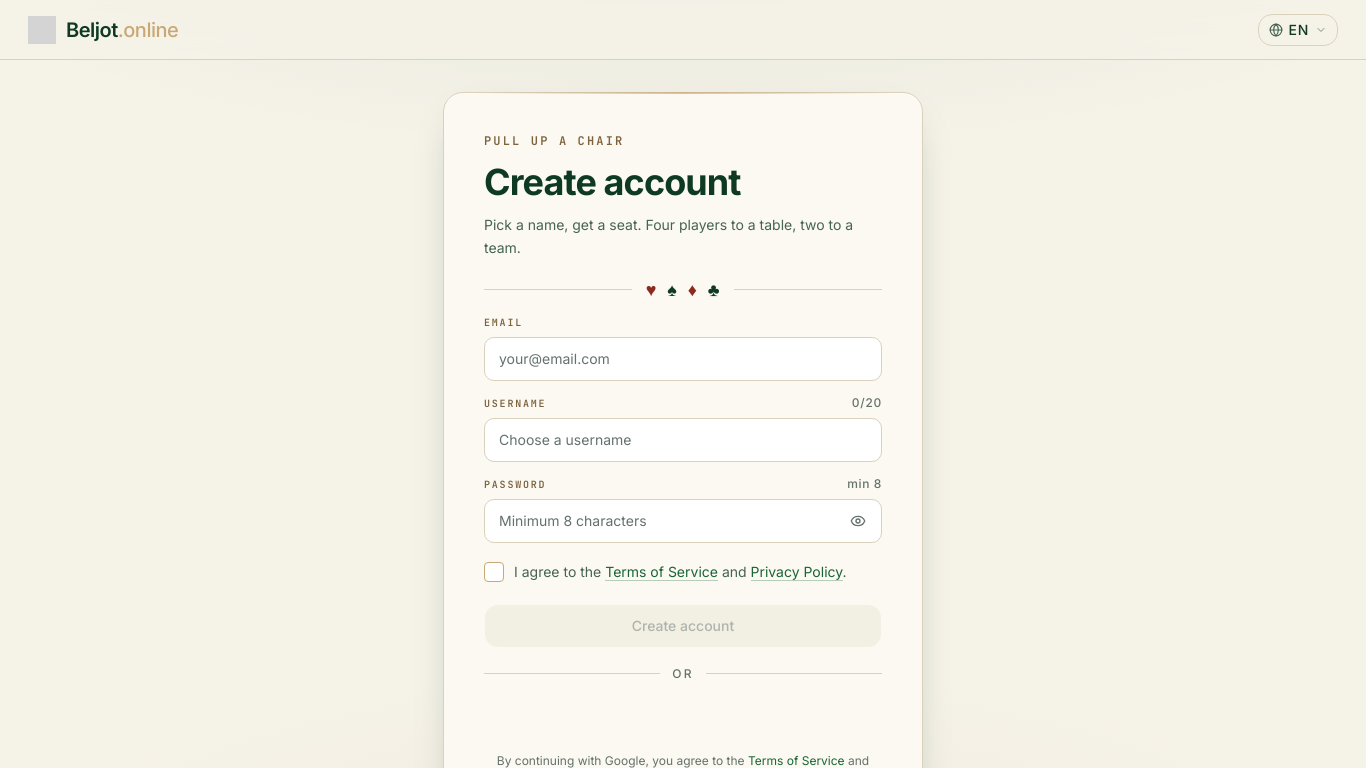
Test: RegisterPage › displays inline error for EMAIL_TAKEN server response
Type "taken@example.com" into the field with test id "email-input" at (683, 359), box [484,337,882,381]
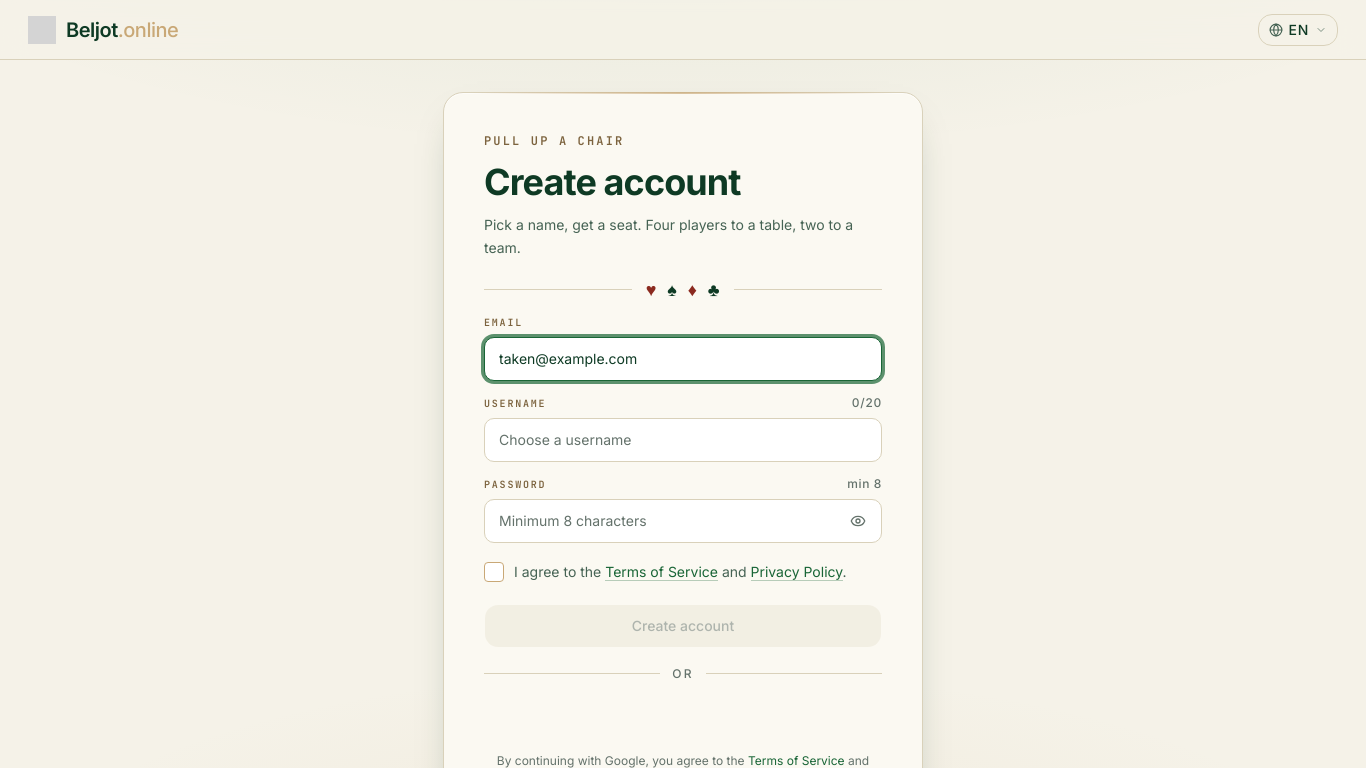
Type "testuser" into the field with test id "username-input" at (683, 440), box [484,418,882,462]
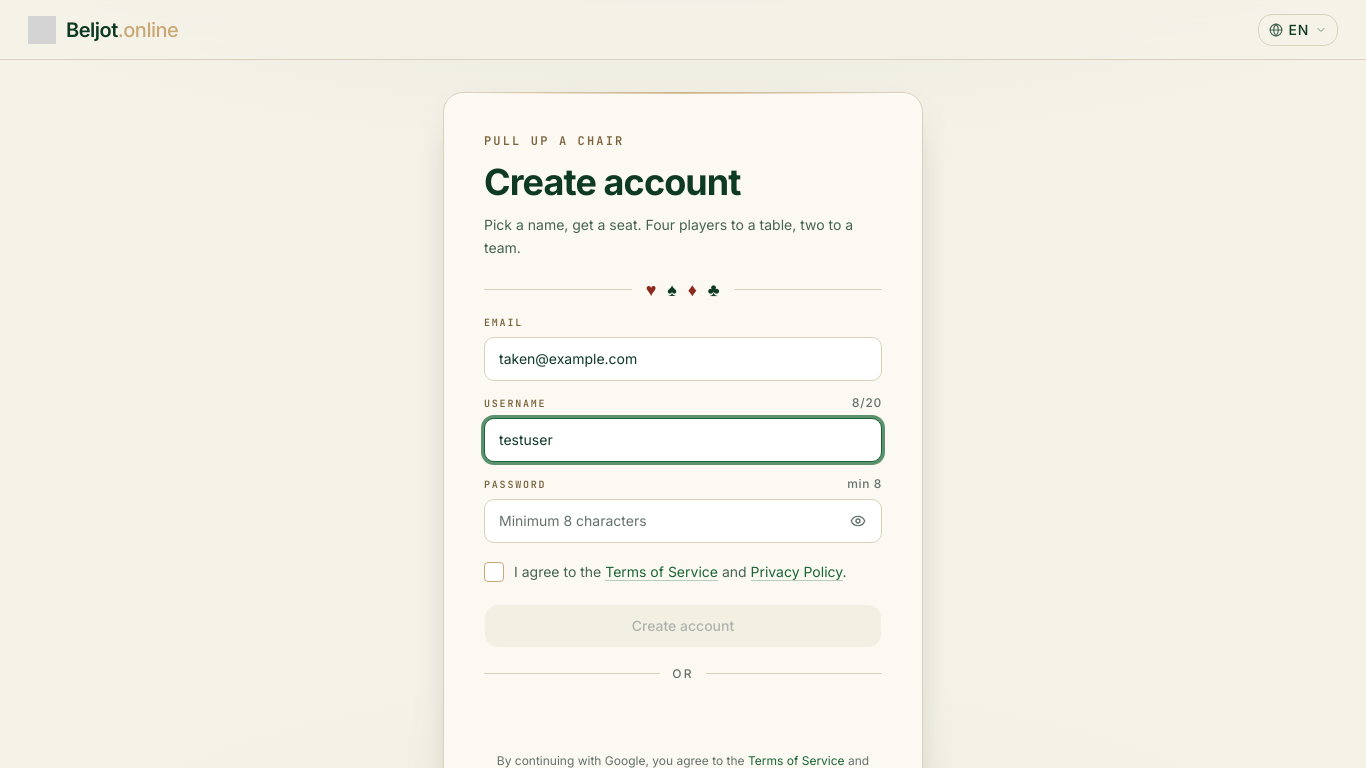
Type "password123" into the password field with test id "password-input" at (683, 521), box [484,499,882,543]
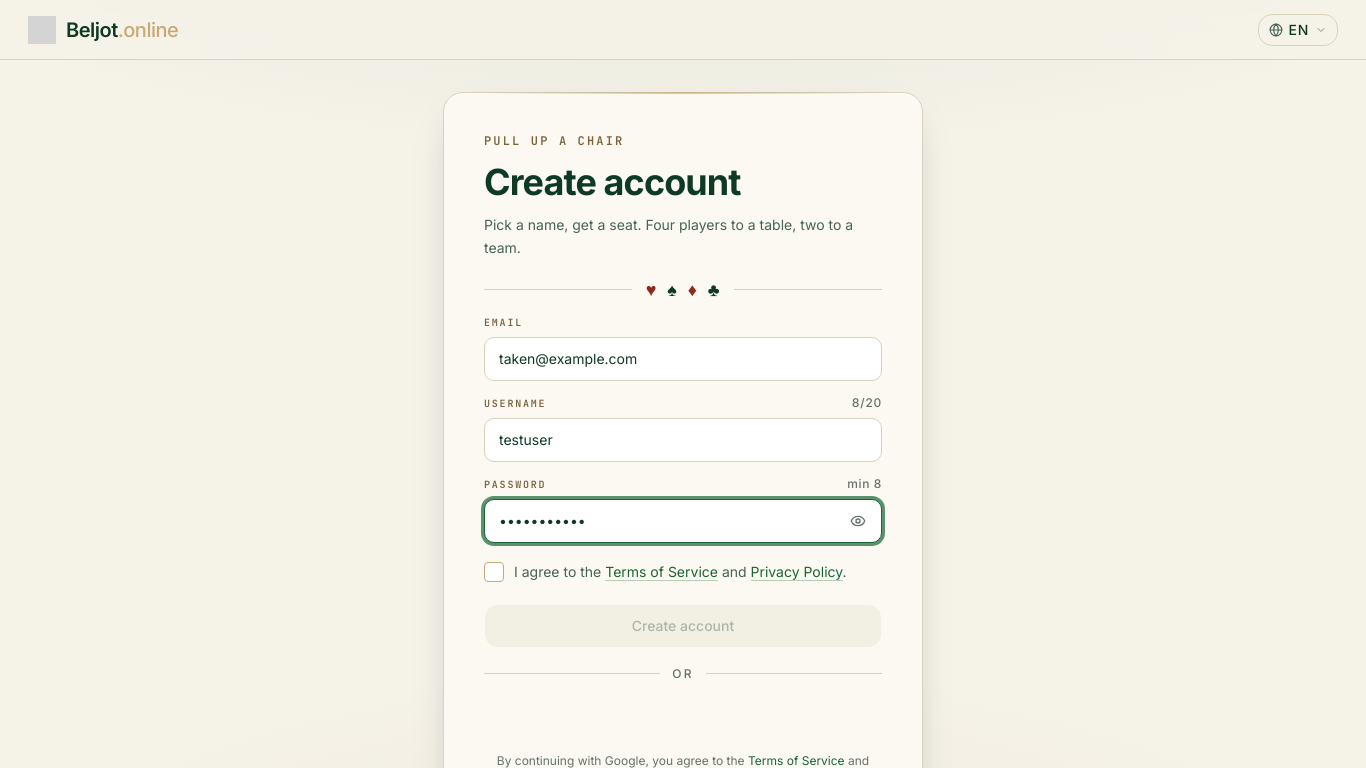
Click the checkbox with test id "consent-checkbox" at (683, 572), box [484,561,882,582]
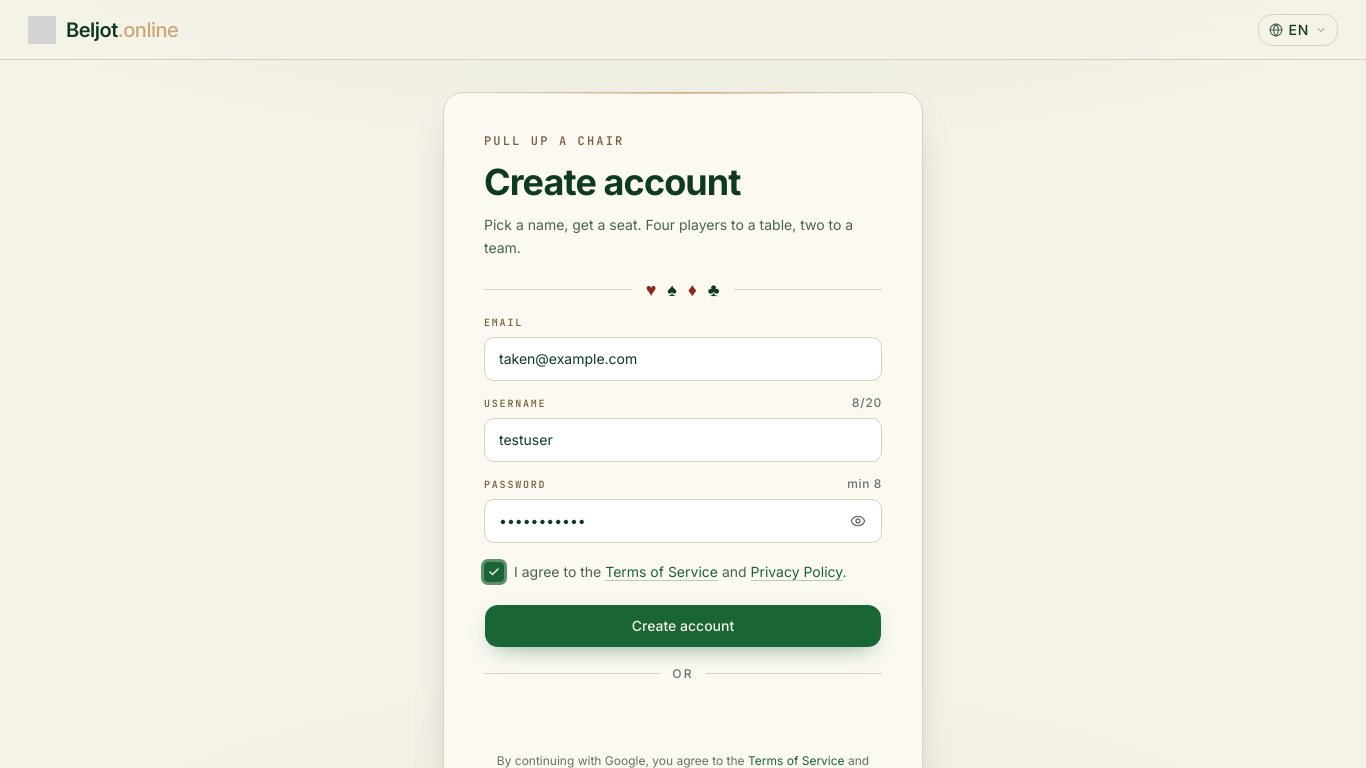
Click the button with test id "submit-button" at (683, 626), box [484,604,882,648]
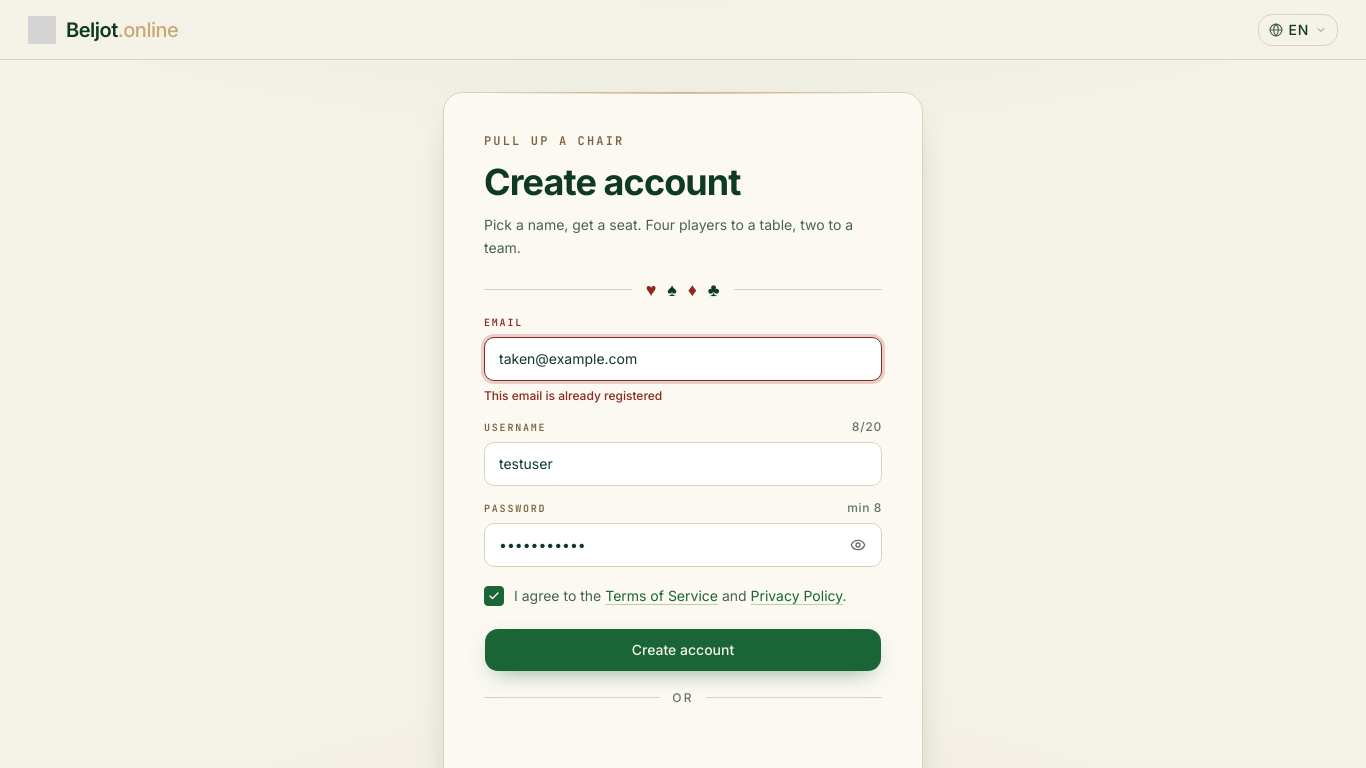
Result: the text with test id "email-error" reads "This email is already registered" at [484,388,662,403]
